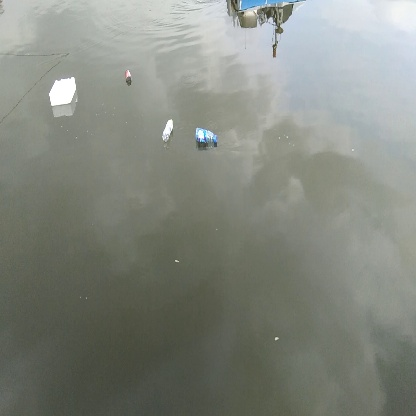bottle: (193, 126, 222, 145), (160, 116, 174, 145)
plastic-garbage: (42, 74, 83, 115)
